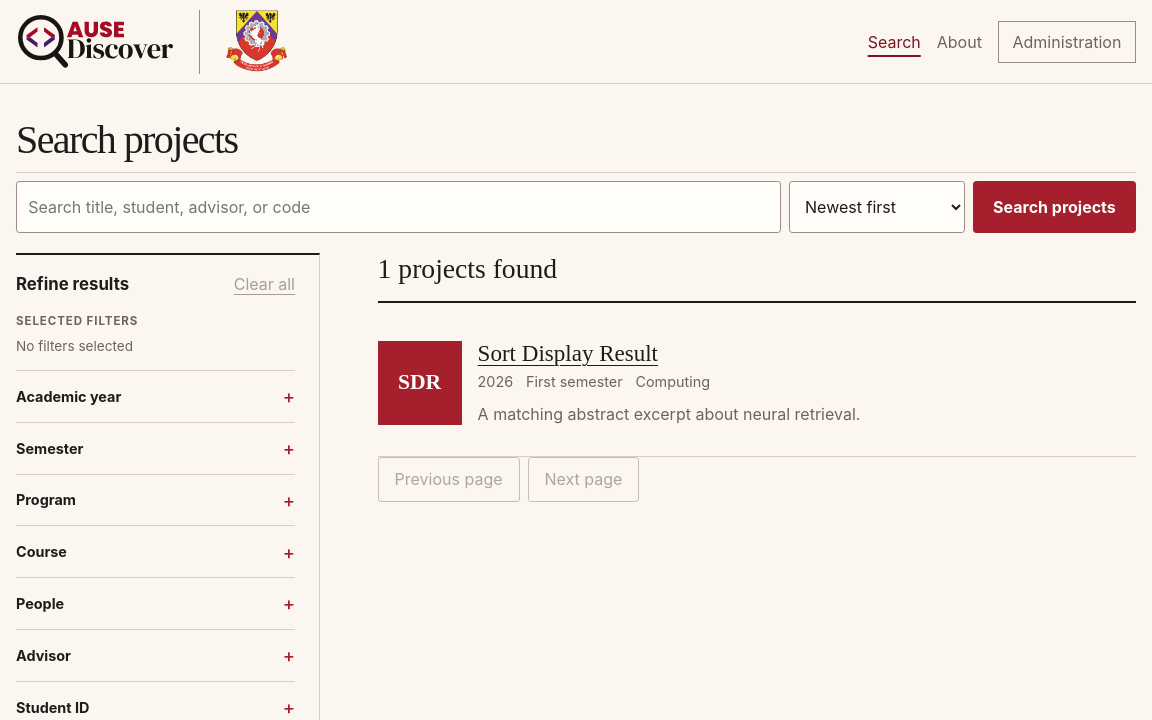
Test: public search contextual sort display › switches the implicit displayed default when text is submitted and cleared
The image size is (1152, 720).
Expected: the link "Sort Display Result" is shown, [478,340,658,366]
Type "vision" into the dropdown with placeholder "Search title, student, advisor, or code" at (398, 207), box [16,181,781,233]
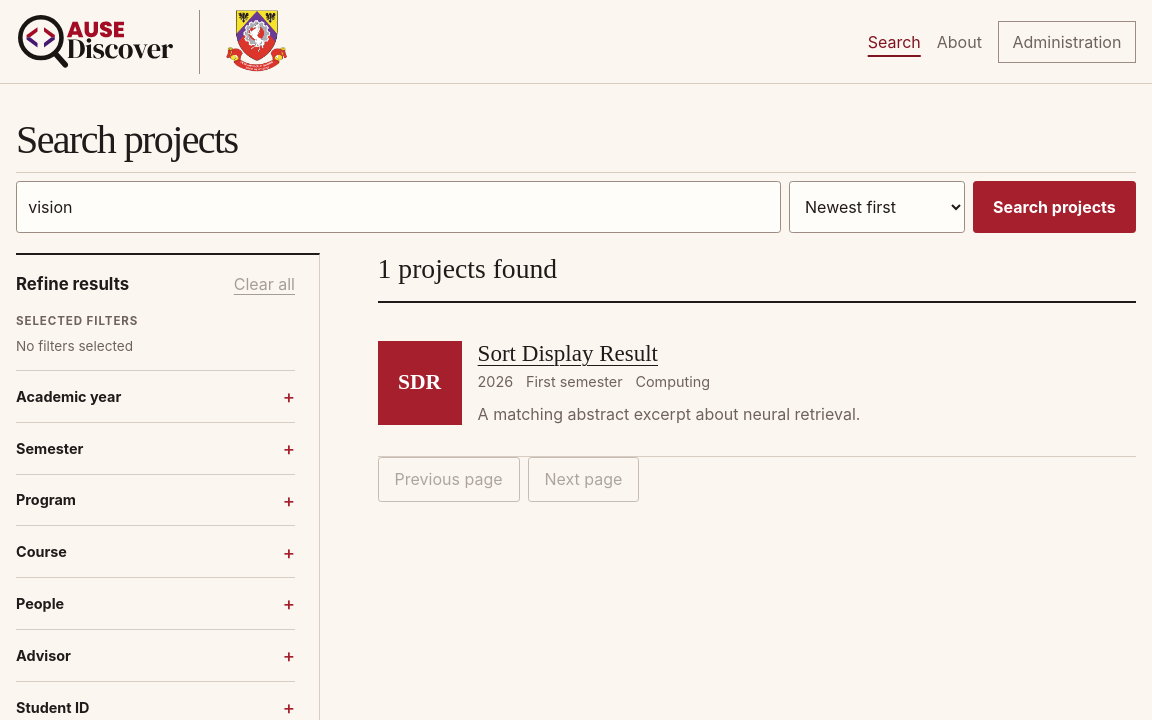
Submit the form with placeholder "Search title, student, advisor, or code", box [16,181,1136,233]
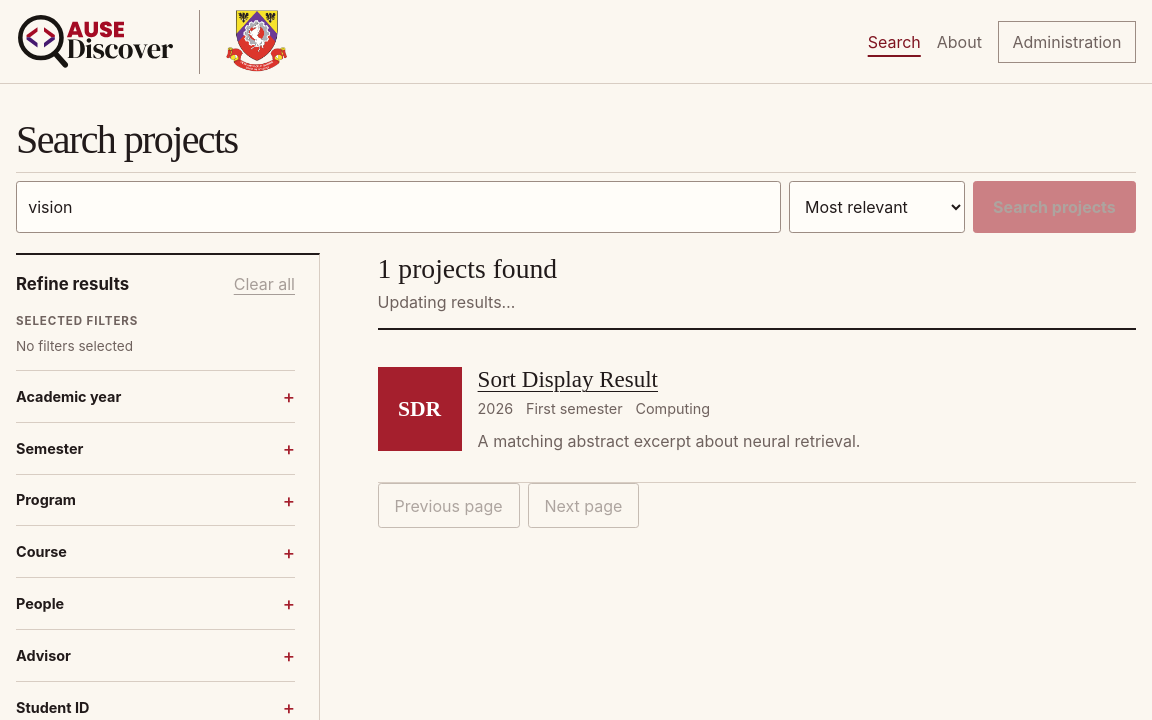
Expected: the dropdown named "Sort results" shows "Most relevant", [789,181,965,233]
Clear the dropdown with placeholder "Search title, student, advisor, or code" at (398, 207), box [16,181,781,233]
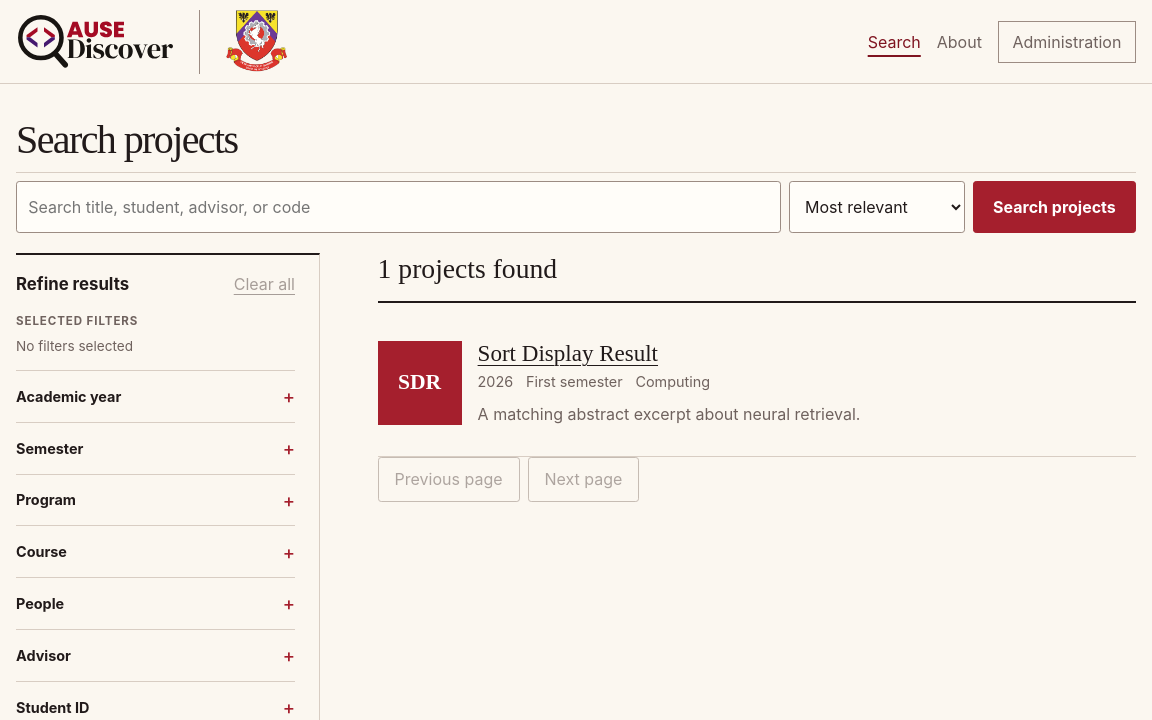
Submit the form with placeholder "Search title, student, advisor, or code", box [16,181,1136,233]
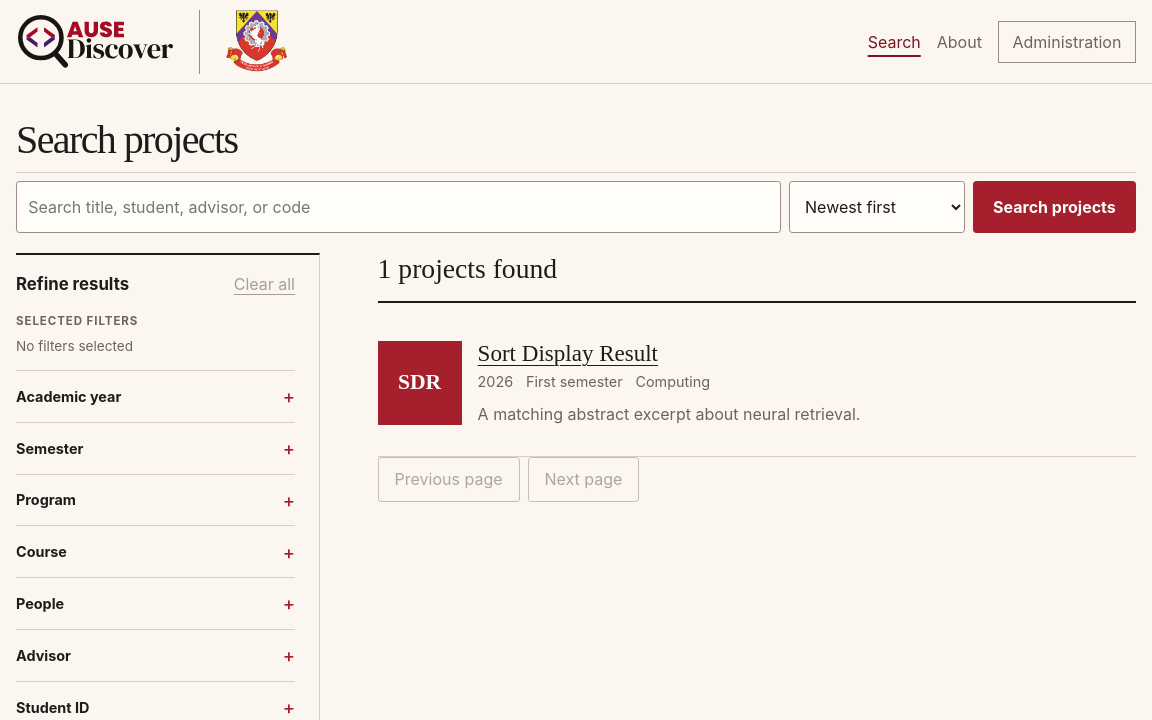
Expected: the dropdown named "Sort results" shows "Newest first", [789,181,965,233]
